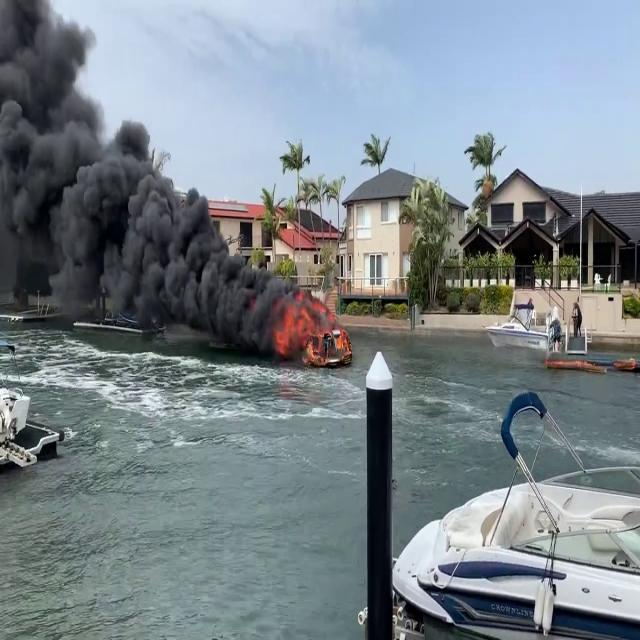Fire: (276, 288, 350, 366)
Smoke: (0, 1, 274, 358)
